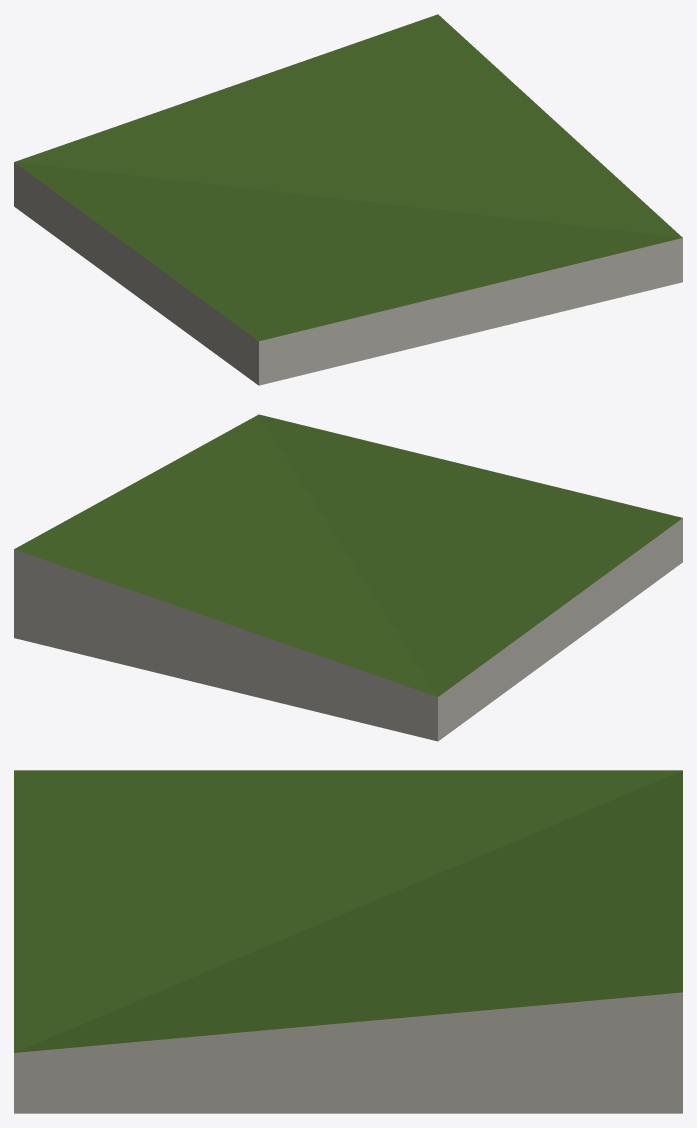
The model's file is Terrain_Modular_Tiles_Grass_Rock_Ramp_Corner_Small_02.fbx.
3 renders of one model, top to bottom at view 1: azimuth 30°, elevation 25°; view 2: azimuth 150°, elevation 25°; view 3: azimuth 270°, elevation 25°, orthographic. The views are drawn at different scales.
Visible parts, largest first — view 1: Terrain_Modular_Tiles_Grass_Rock_Ramp_Corner_Small_02; view 2: Terrain_Modular_Tiles_Grass_Rock_Ramp_Corner_Small_02; view 3: Terrain_Modular_Tiles_Grass_Rock_Ramp_Corner_Small_02.
Part boxes in pixels (x1=…): Terrain_Modular_Tiles_Grass_Rock_Ramp_Corner_Small_02: x1=14, y1=14, x2=682, y2=385; Terrain_Modular_Tiles_Grass_Rock_Ramp_Corner_Small_02: x1=14, y1=414, x2=682, y2=741; Terrain_Modular_Tiles_Grass_Rock_Ramp_Corner_Small_02: x1=14, y1=770, x2=682, y2=1113.
Bounding box in the file's own units: 3000 × 600 × 3000.
